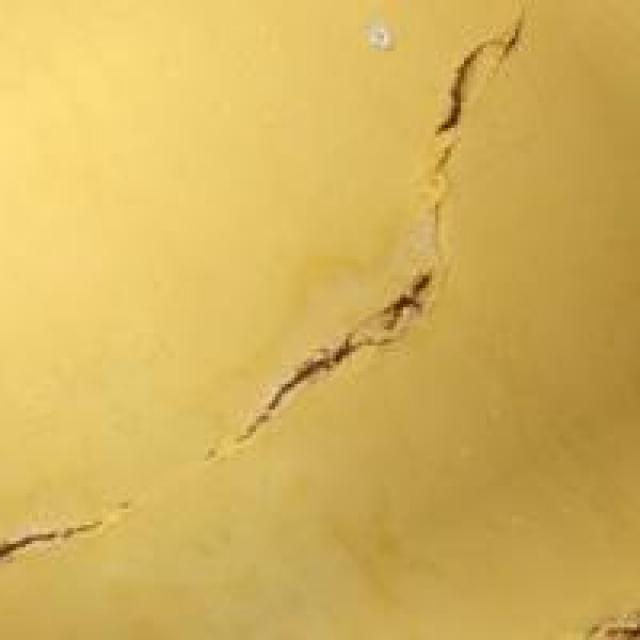Crack: (179, 18, 589, 491)
